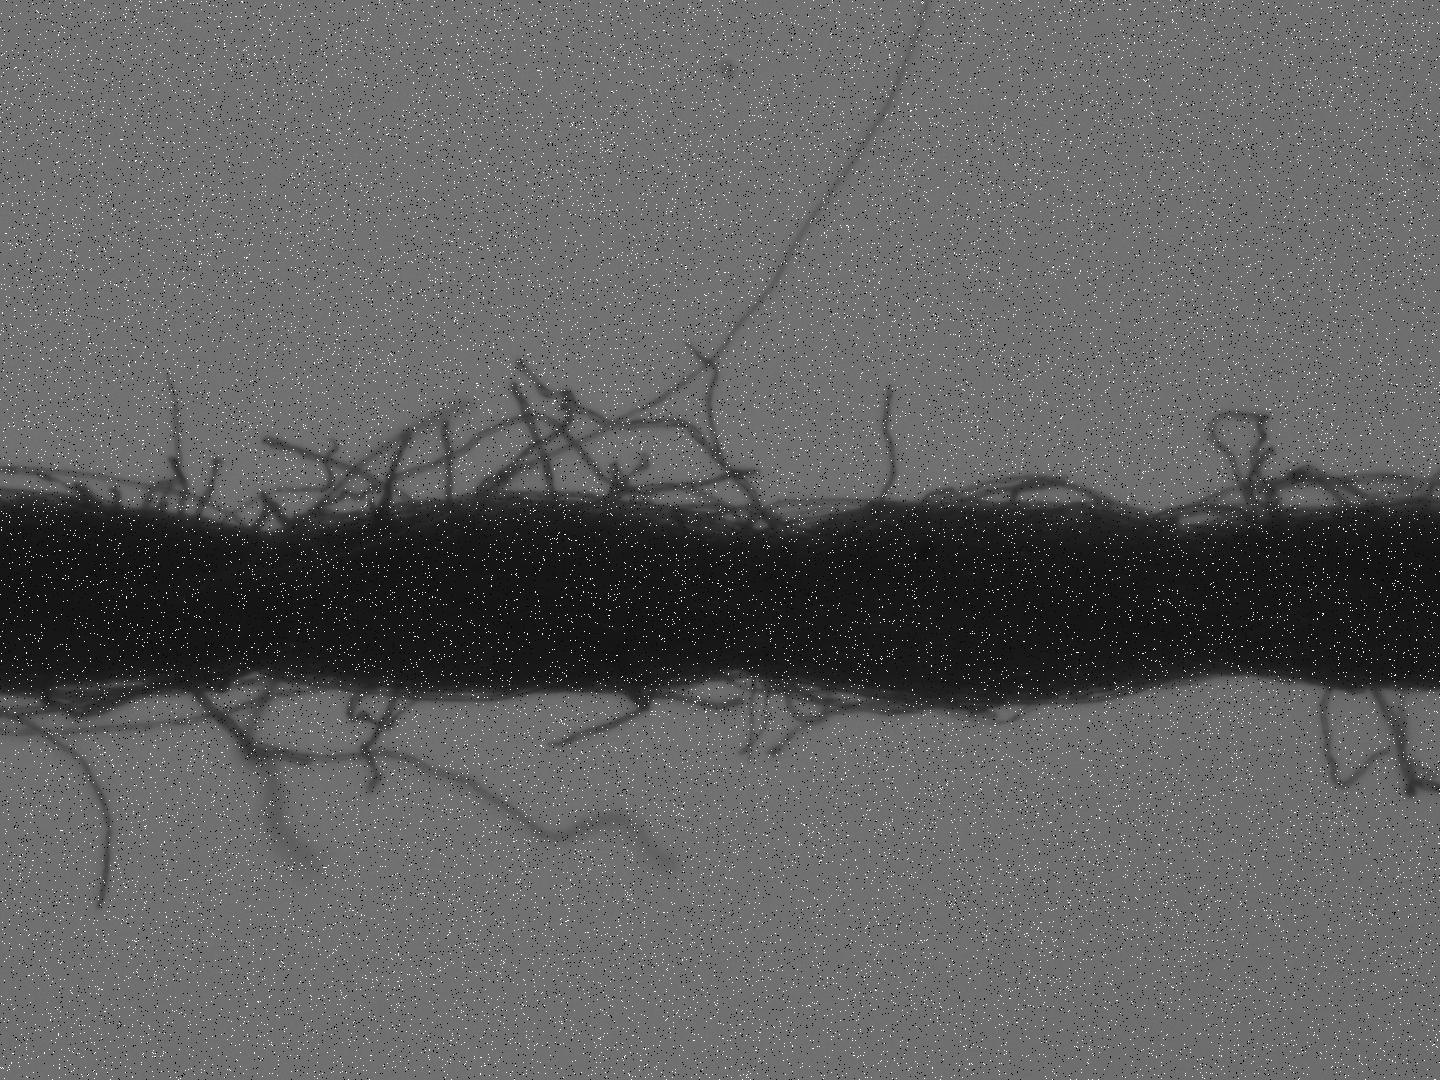loop_fiber: (769, 669, 1006, 729), (32, 666, 269, 724), (929, 471, 1128, 530), (1265, 461, 1431, 529), (695, 496, 836, 554), (1203, 407, 1270, 529), (562, 446, 658, 523), (236, 486, 320, 560), (127, 450, 193, 531), (346, 676, 423, 739), (596, 668, 685, 720), (1137, 500, 1243, 533)
protruding_fiber: (6, 704, 118, 914), (858, 381, 903, 532)
